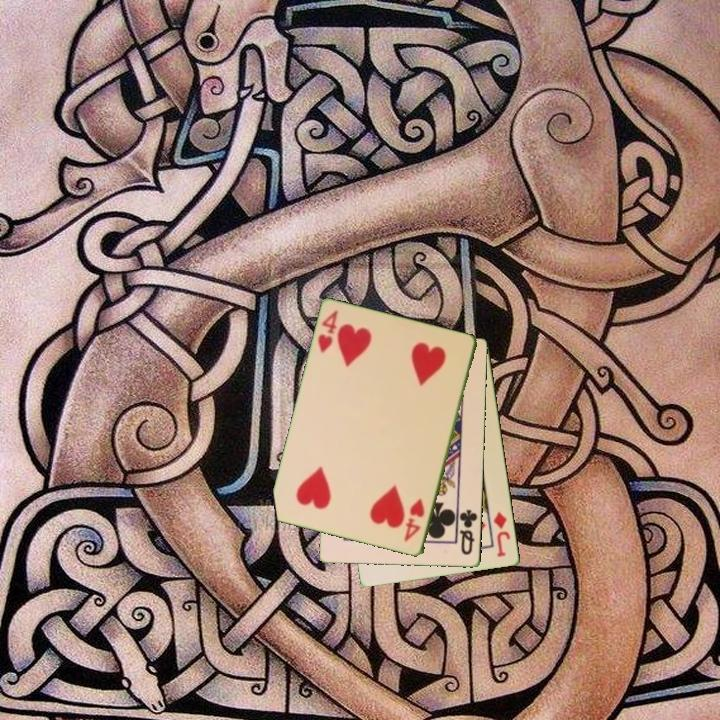4h: (401, 495, 428, 545), (314, 307, 341, 356)
Jd: (490, 509, 513, 560)
Qc: (456, 506, 480, 558)
